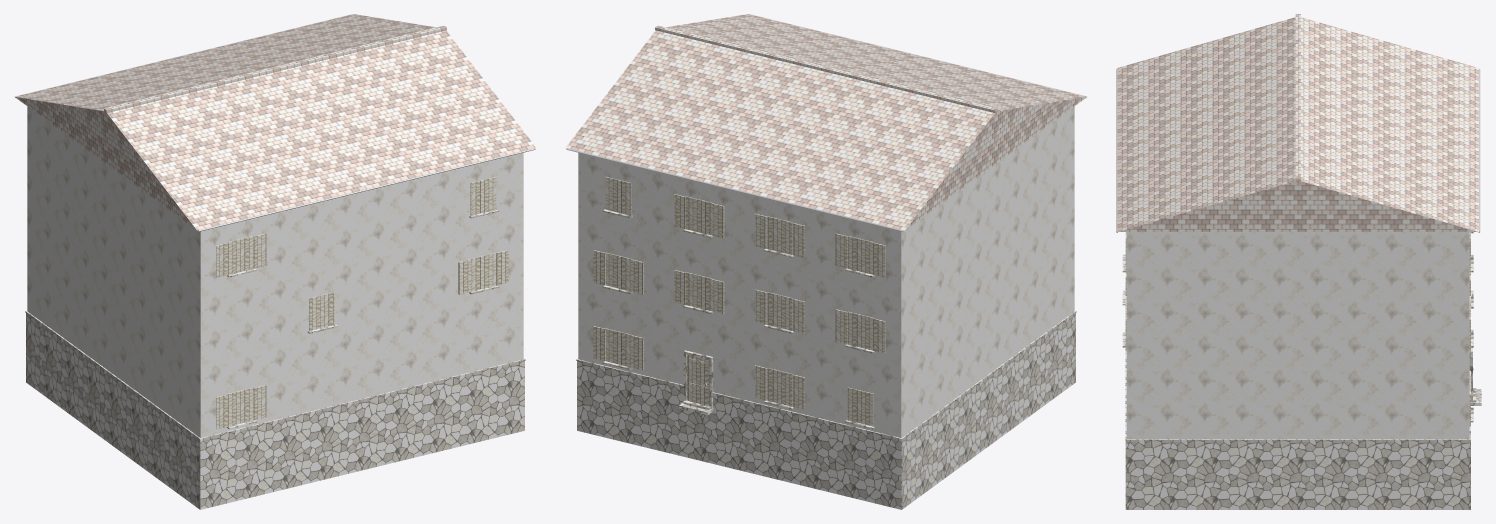
3 renders of one model, left to right at view 1: azimuth 30°, elevation 25°; view 2: azimuth 150°, elevation 25°; view 3: azimuth 270°, elevation 25°, orthographic.
Visible parts, largest first — view 1: b615242524; view 2: b615242524; view 3: b615242524.
Boxes of the visible parts, x1,y1,x2,y2 form: b615242524: (14,14,536,509); b615242524: (565,14,1087,509); b615242524: (1116,14,1481,509).
Bounding box in the file's own units: 14.56 × 13.84 × 13.68.
16 materials, 16 textured.
